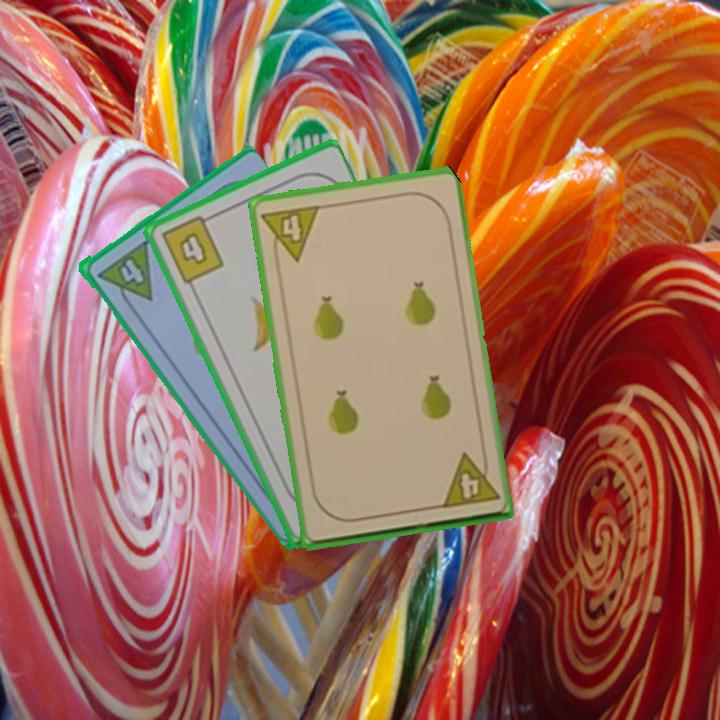4b: (157, 210, 227, 287)
4p: (93, 237, 156, 315), (258, 201, 323, 267), (437, 447, 502, 511)
